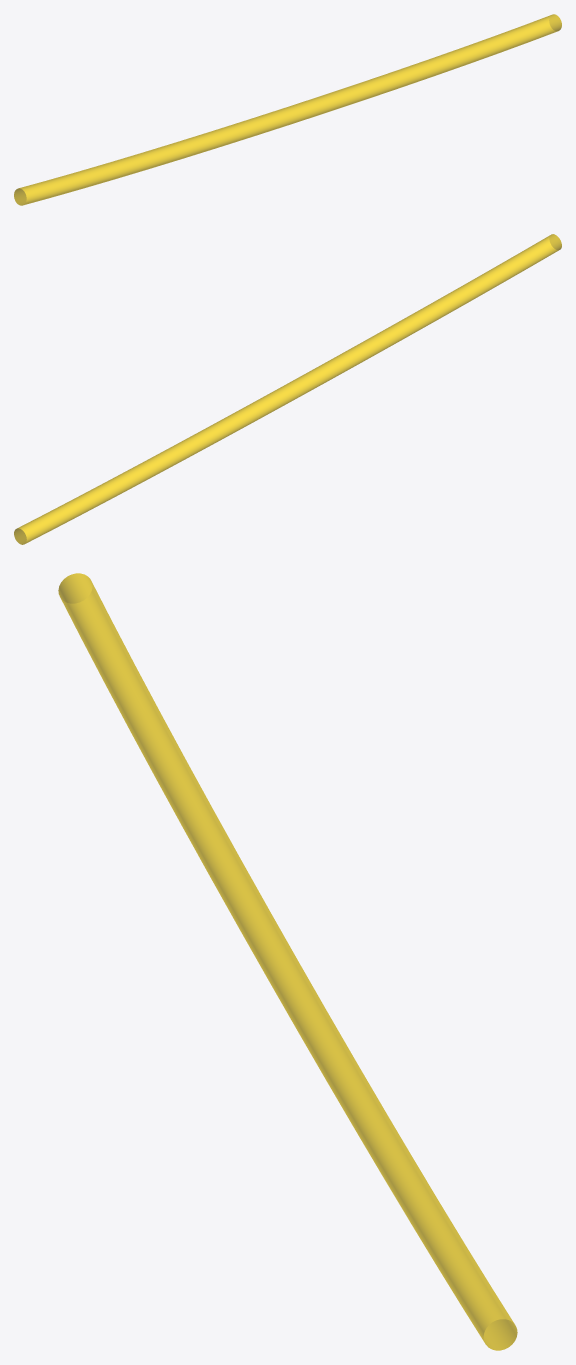
File: Event_419990632_track_16.fbx
3 views of the same model, one above another, from view 1: azimuth 30°, elevation 25°; view 2: azimuth 210°, elevation 25°; view 3: azimuth 270°, elevation 25° (orthographic). The views are drawn at different scales.
Parts seen in each view (by area): view 1: Model; view 2: Model; view 3: Model.
Boxes of the visible parts, left/top/right/bottom form: Model: left=14, top=14, right=561, bottom=205; Model: left=14, top=234, right=561, bottom=544; Model: left=58, top=573, right=517, bottom=1350.
Bounding box in the file's own units: 1.68 × 0.1894 × 0.5179.
